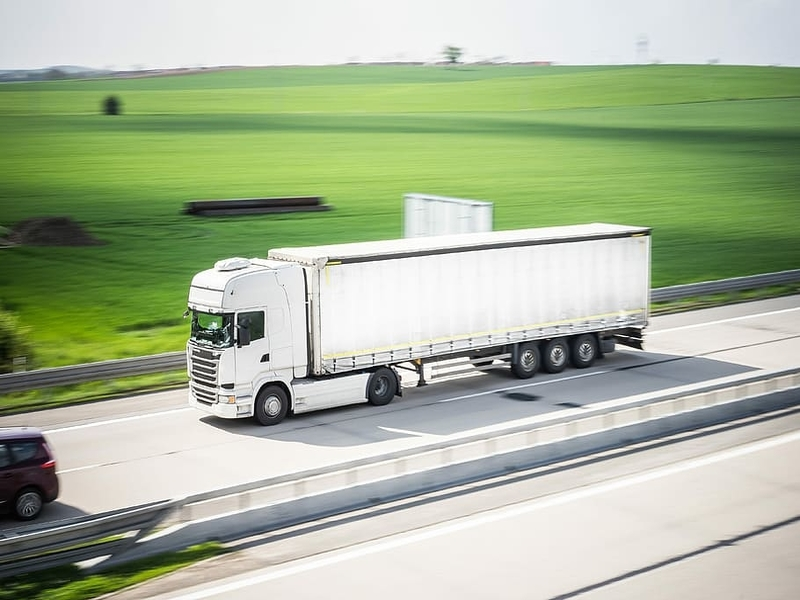truck: (185, 221, 652, 425)
